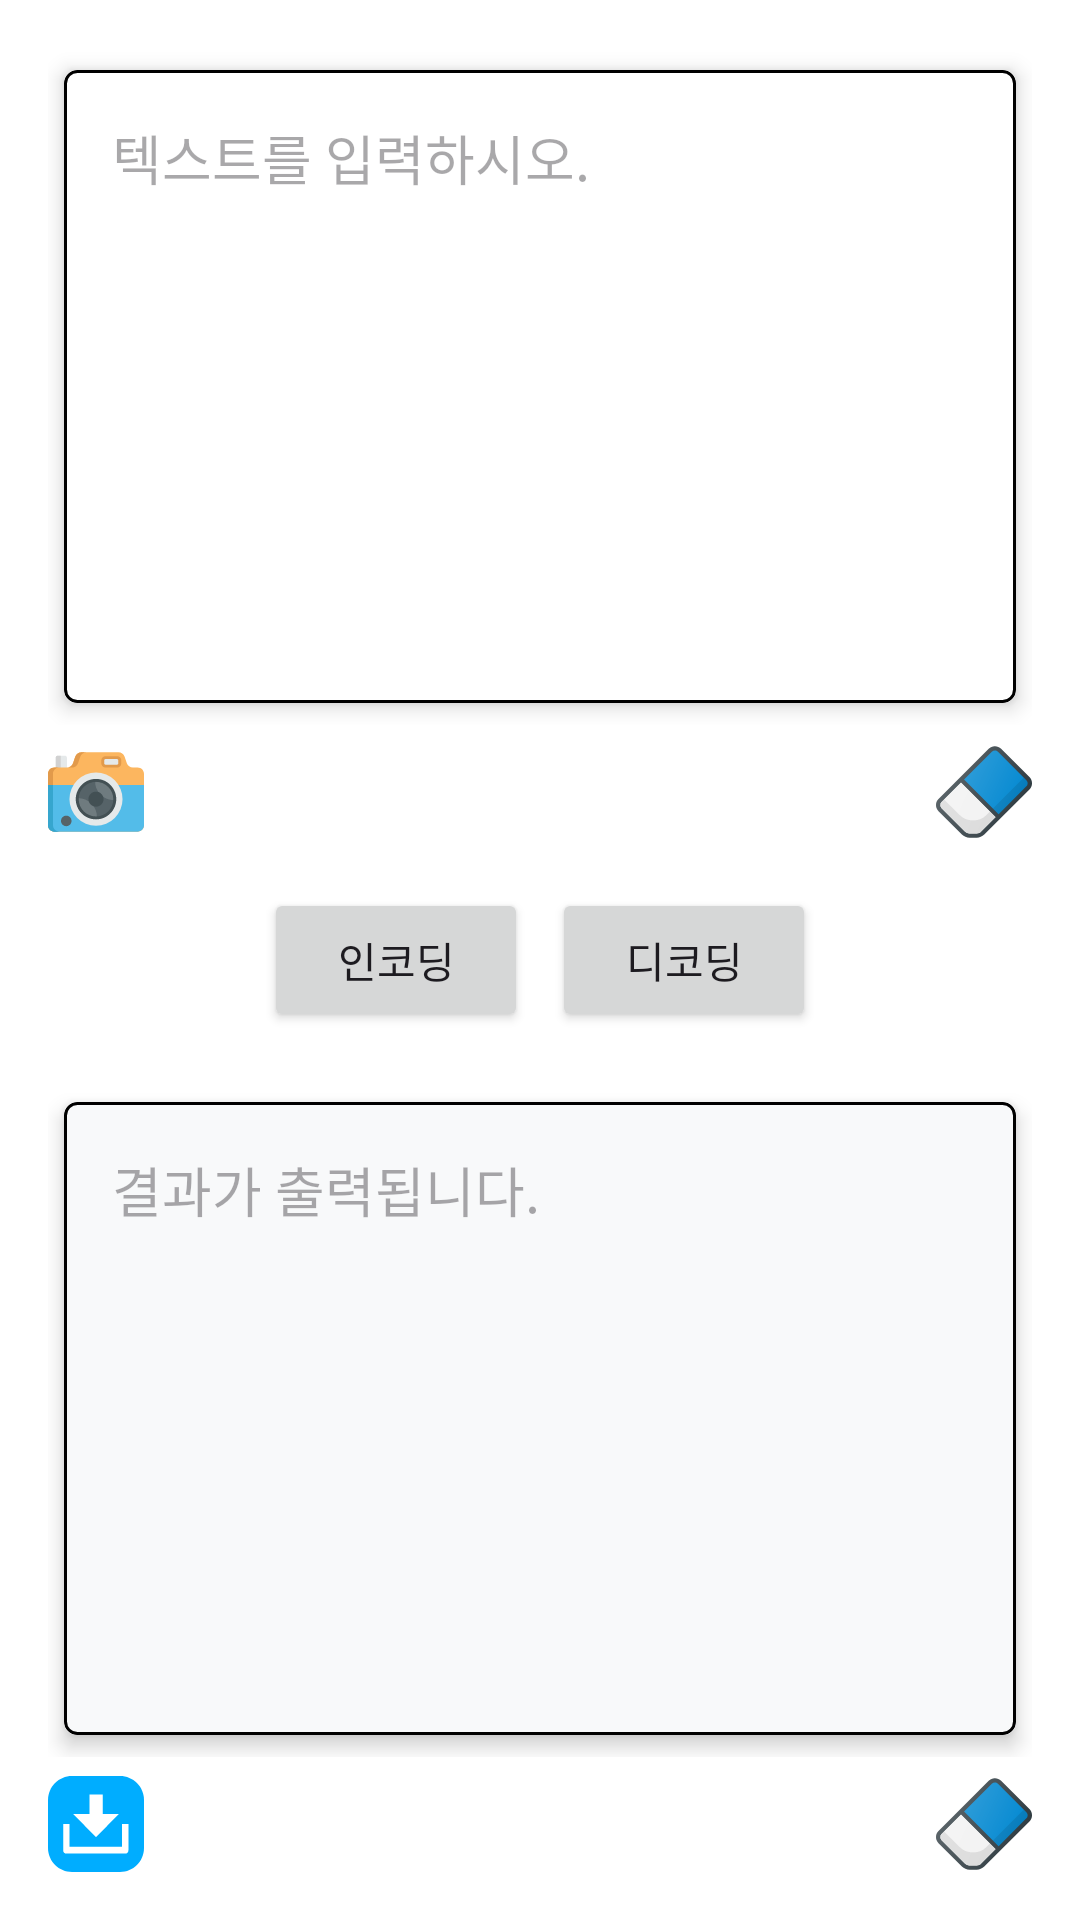

Locate icon controls on the screen. Image size 1080px x 1920px, boxes as (x1, y1, x2, y2).
Camera Button: (48, 752, 144, 832)
DownLoad Button: (48, 1776, 144, 1872)
EditText Clear Button: (936, 746, 1032, 838)
TextView Clear Button: (936, 1778, 1032, 1870)
